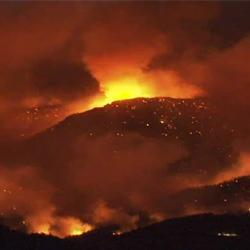fire: (106, 83, 146, 99)
